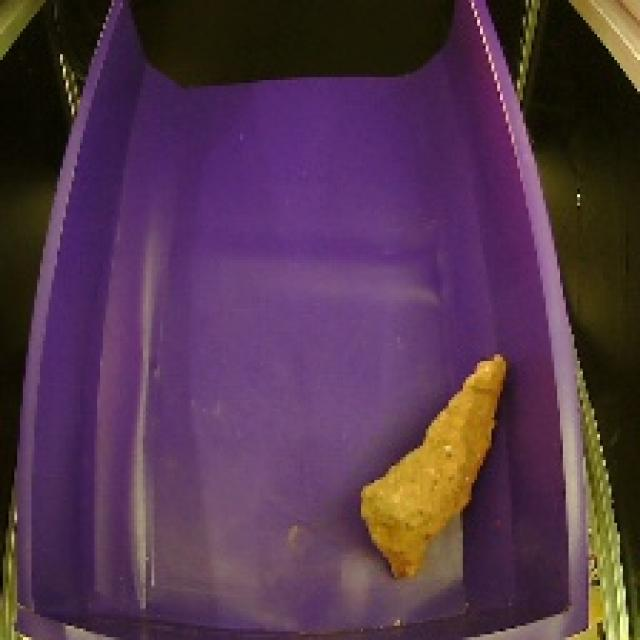brick: (350, 342, 511, 584)
